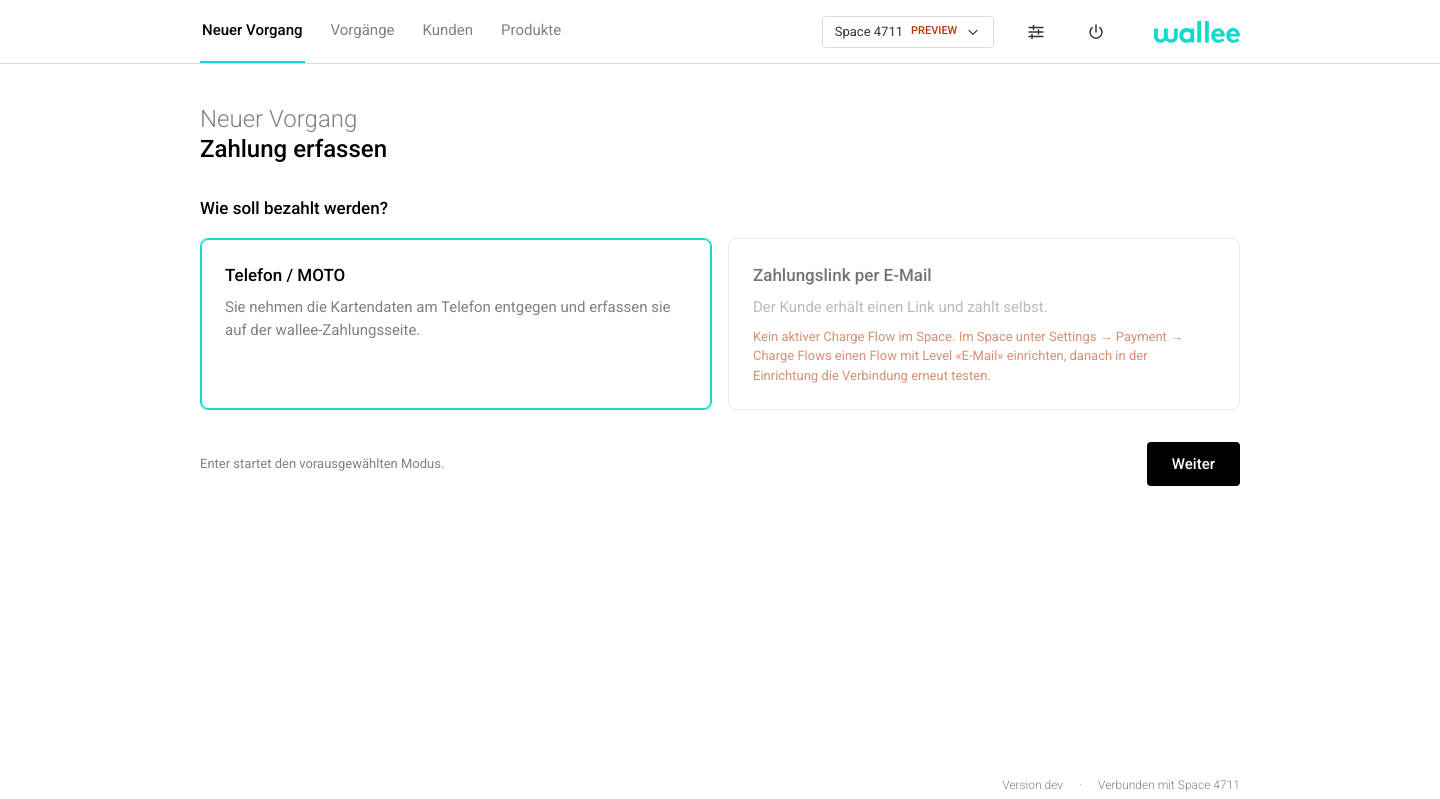
Test: MOTO wizard › blocks the items step until the line item is valid
The image size is (1440, 799).
What coordinates should you click on to do the following:
click the button "Telefon / MOTO"
I would click on:
 (285, 274)
Its box is [200, 238, 712, 410].
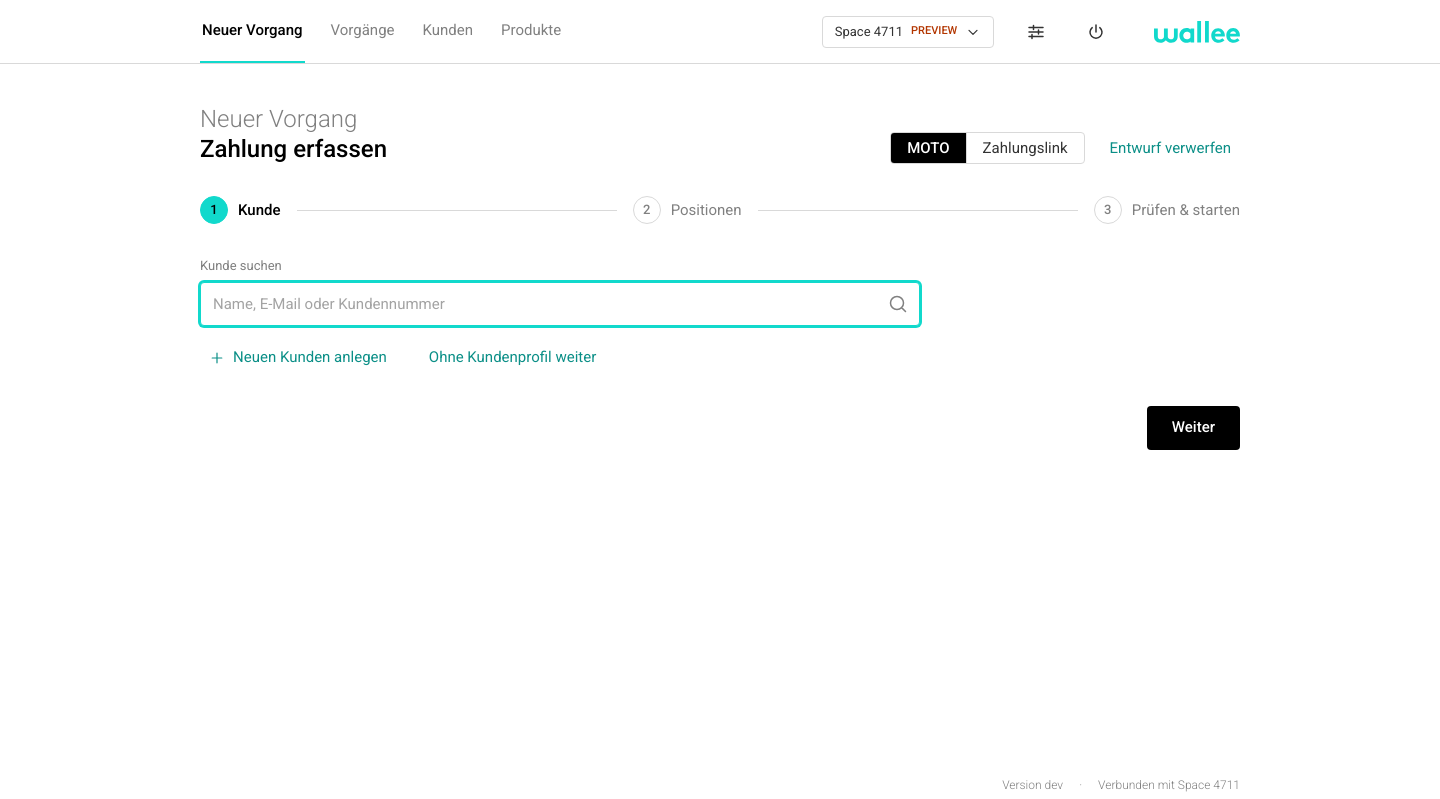
What coordinates should you click on to do the following:
click the button "Weiter"
I would click on:
 (1193, 428)
Its box is [1147, 406, 1240, 450].
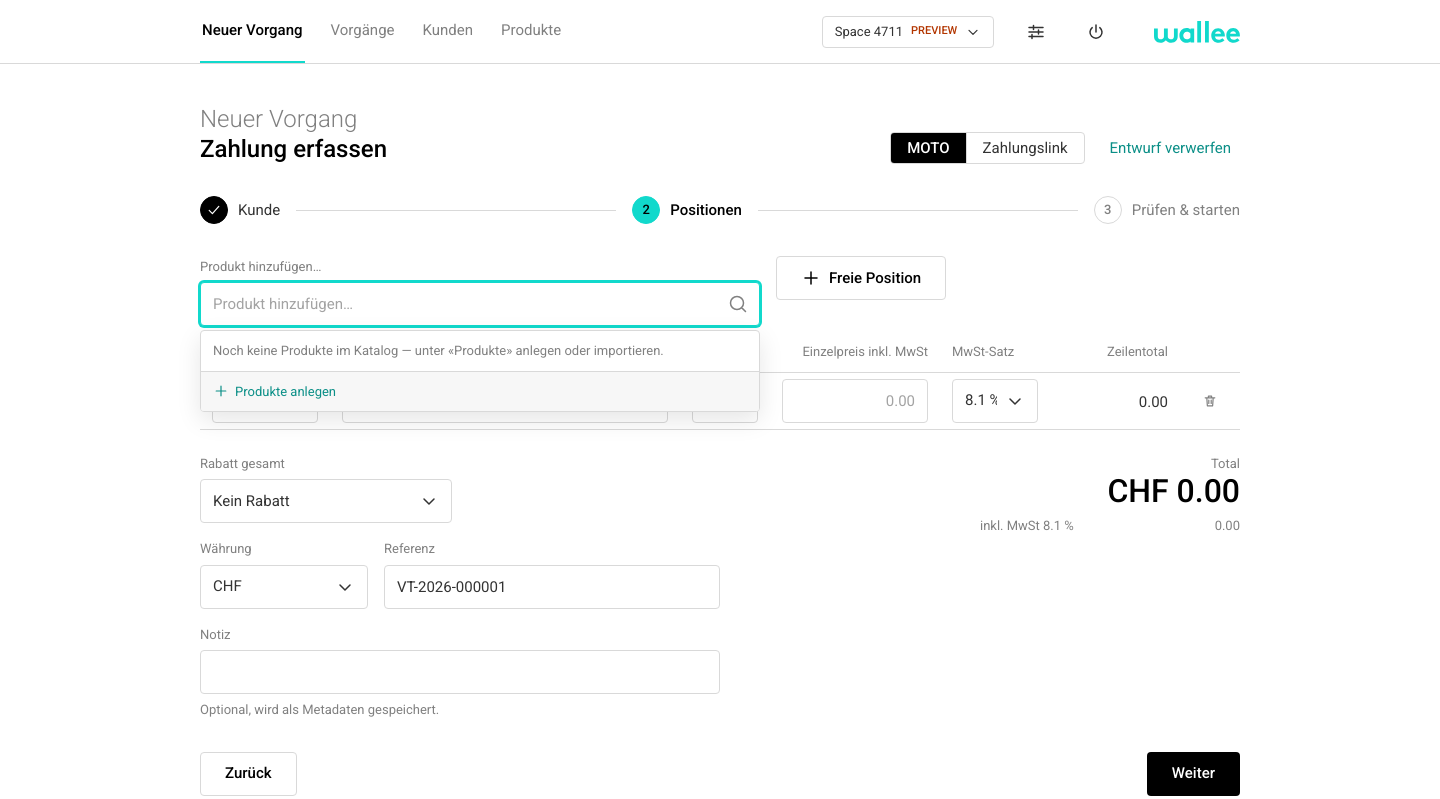
What coordinates should you click on to do the following:
click the button "Weiter"
I would click on:
 (1193, 774)
Its box is [1147, 752, 1240, 796].
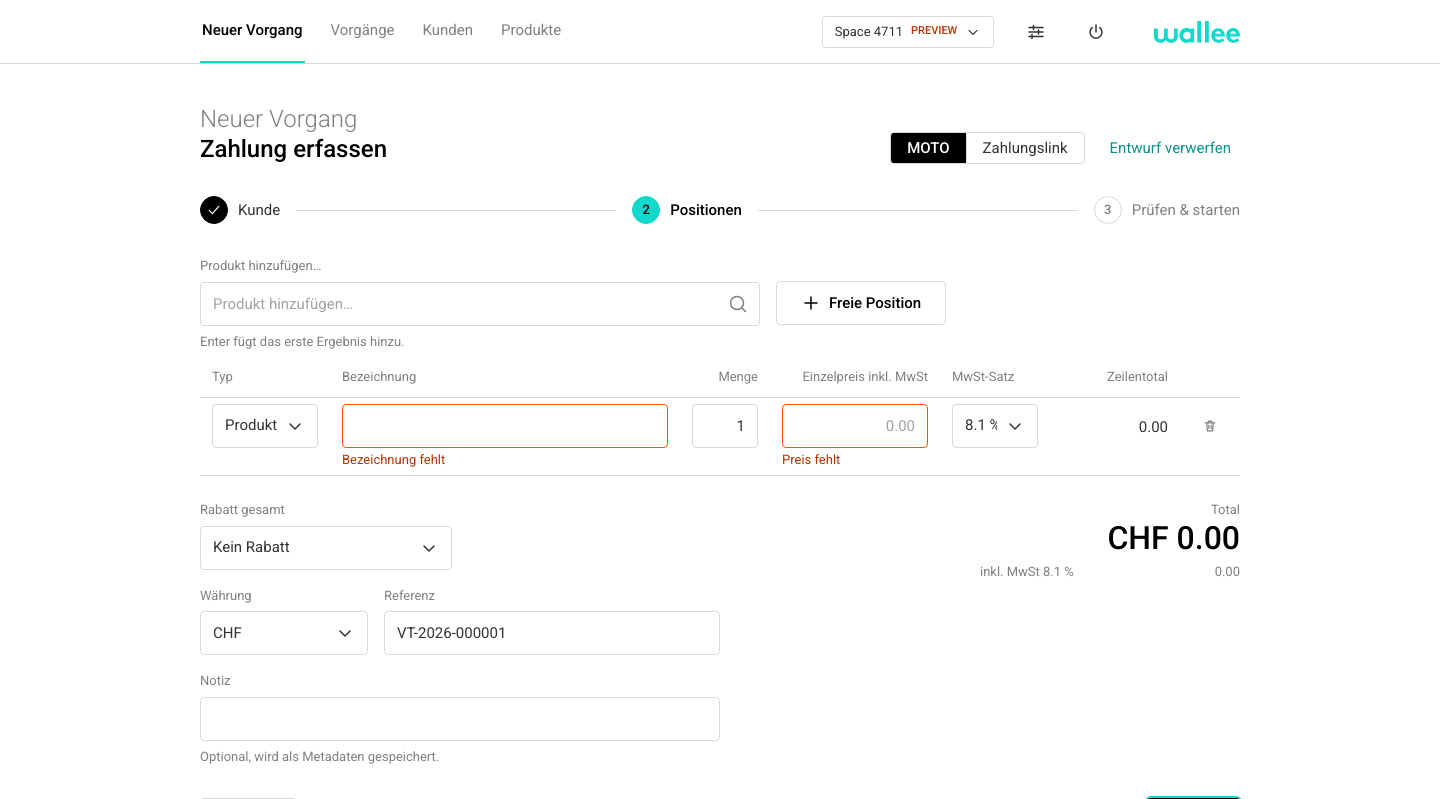
Now the text "Bezeichnung fehlt" is shown, box [342, 452, 445, 466]
Now the text "Preis fehlt" is shown, box [782, 452, 840, 466]
